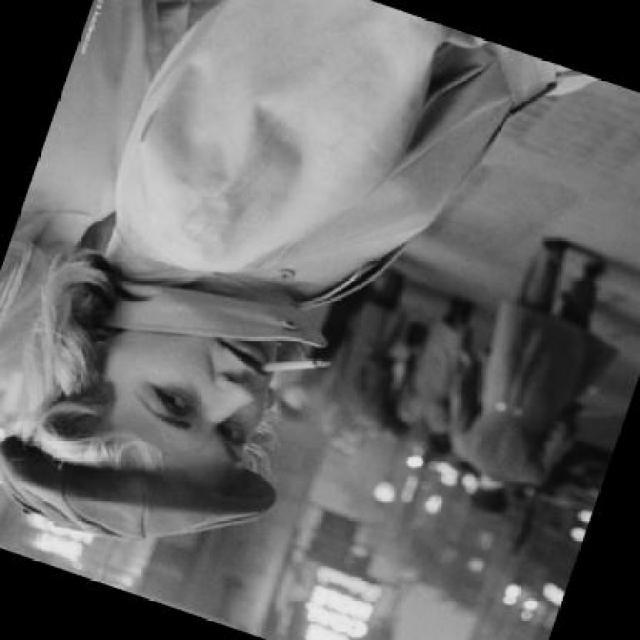cigarette: (254, 332, 337, 394)
